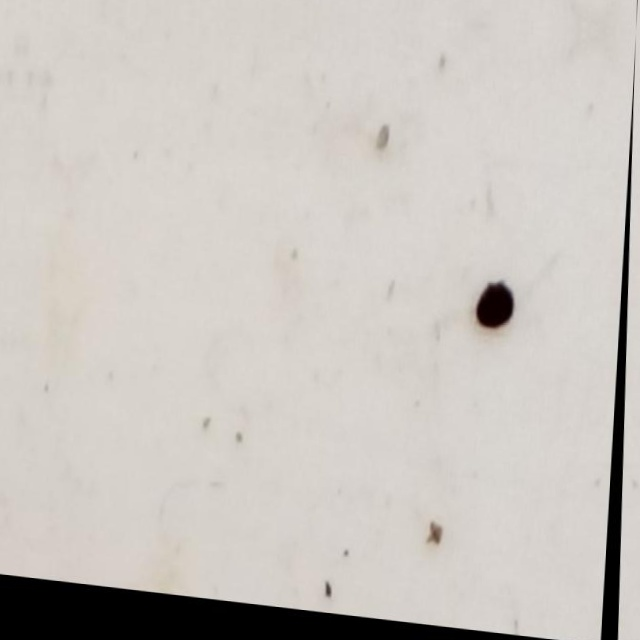varroa: (474, 280, 517, 337)
